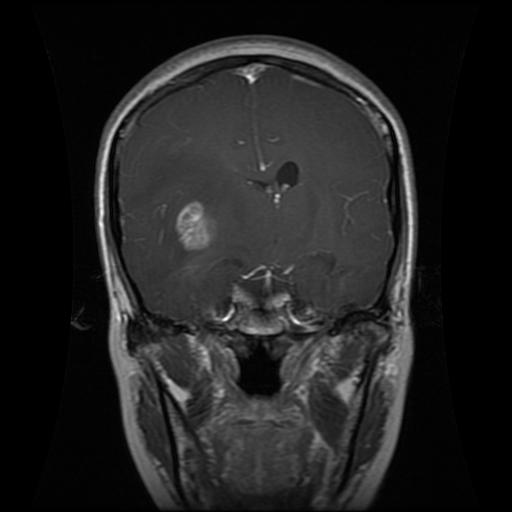Gliomia_tumour: (168, 192, 220, 260)
